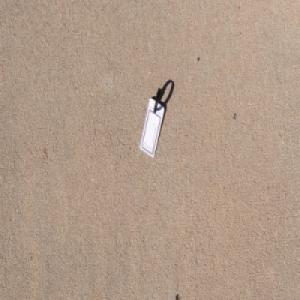LuggageTag: (139, 86, 165, 160)
